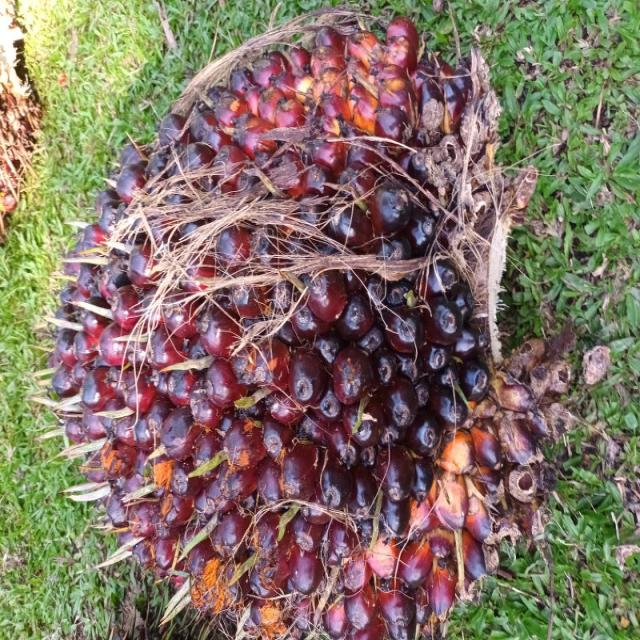fraksi 1: (5, 49, 456, 640)
